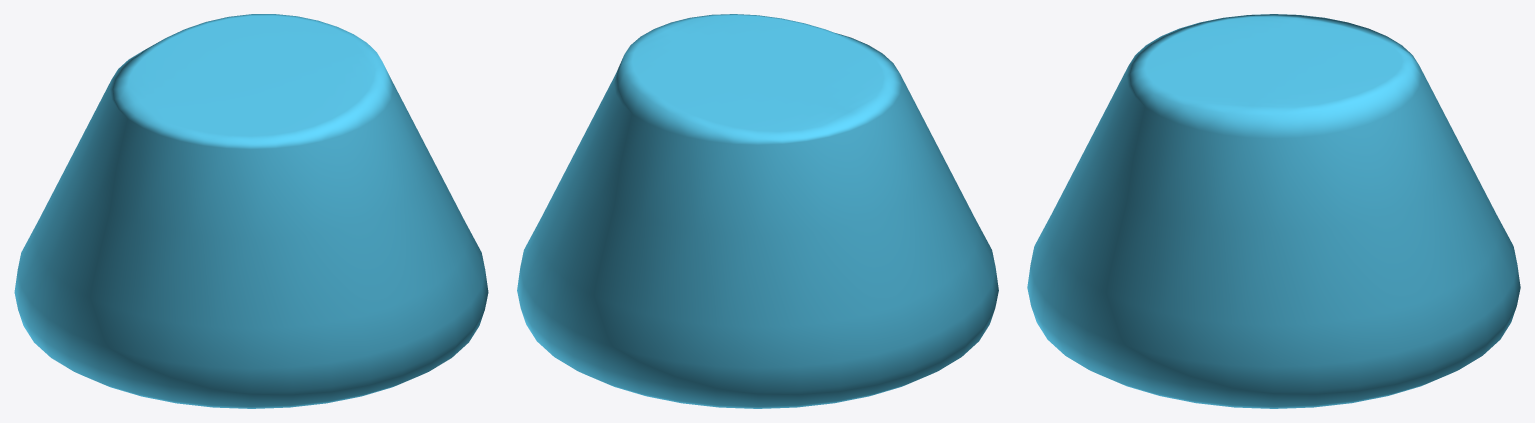
Rendered from Liquid.FBX.
3 renders of one model, left to right at view 1: azimuth 30°, elevation 25°; view 2: azimuth 150°, elevation 25°; view 3: azimuth 270°, elevation 25°, orthographic. The views are drawn at different scales.
Parts seen in each view (by area): view 1: Beaker_Liquid; view 2: Beaker_Liquid; view 3: Beaker_Liquid.
Boxes of the visible parts, x1,y1,x2,y2 form: Beaker_Liquid: [14, 14, 488, 408]; Beaker_Liquid: [517, 14, 998, 408]; Beaker_Liquid: [1027, 14, 1520, 408].
Bounding box in the file's own units: 32.53 × 19.05 × 32.53.
